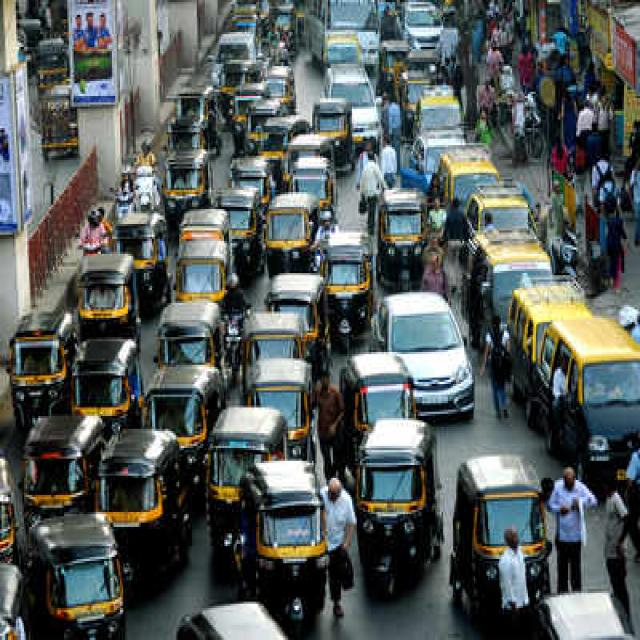autorikshaw: (236, 462, 328, 628), (360, 418, 444, 595), (100, 424, 194, 572), (32, 520, 134, 640), (210, 404, 288, 560), (146, 362, 224, 501), (342, 350, 418, 472), (245, 354, 314, 478), (10, 310, 70, 428), (74, 250, 142, 352), (158, 300, 222, 396), (319, 234, 373, 343), (113, 212, 170, 308), (266, 190, 314, 276)
car: (374, 289, 475, 416)
